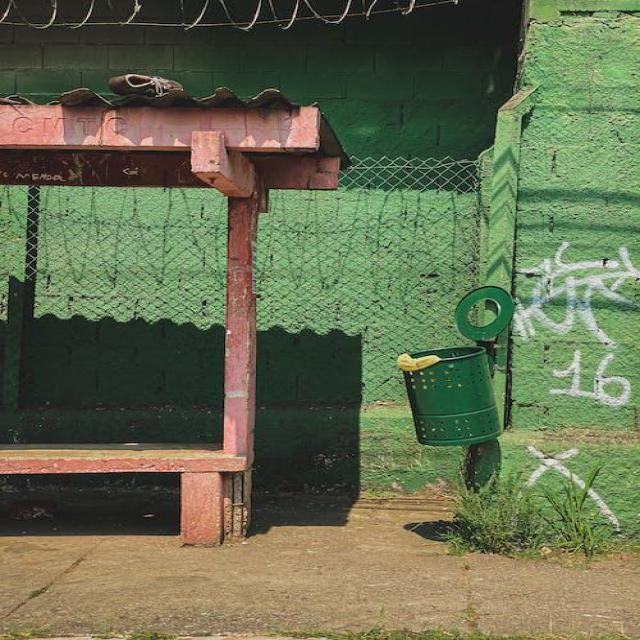metal: (392, 344, 502, 444), (453, 288, 526, 346)
